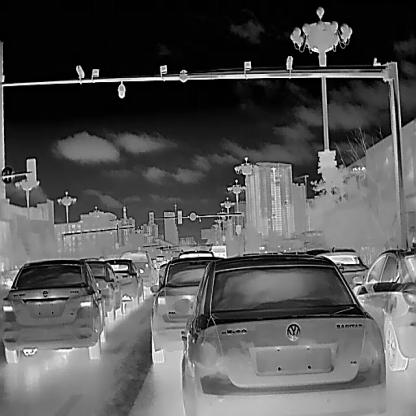bus: (209, 243, 227, 257)
car: (180, 254, 386, 415), (1, 258, 105, 364), (148, 255, 235, 365), (354, 248, 416, 373), (84, 260, 122, 323), (316, 249, 368, 286), (105, 258, 143, 308), (118, 250, 158, 288), (1, 268, 20, 287), (155, 254, 166, 268)
